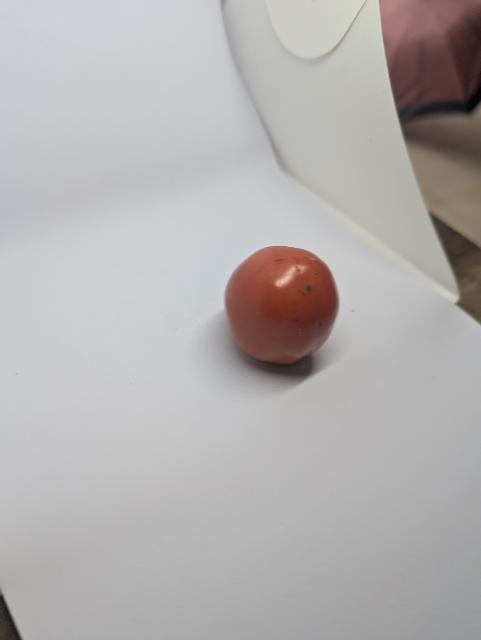red: (214, 240, 350, 378)
